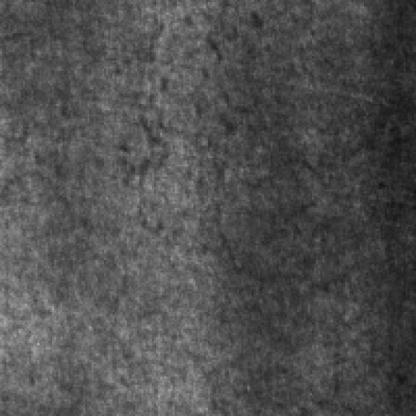crazing: (137, 8, 227, 240)
